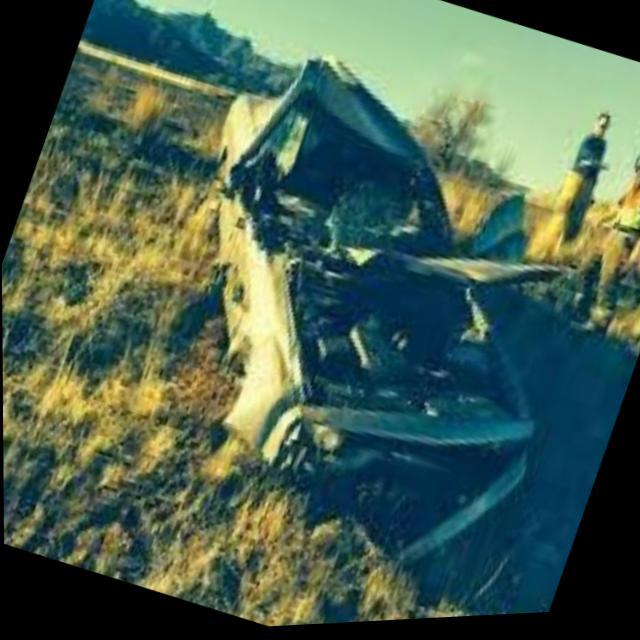crash: (218, 72, 534, 497)
